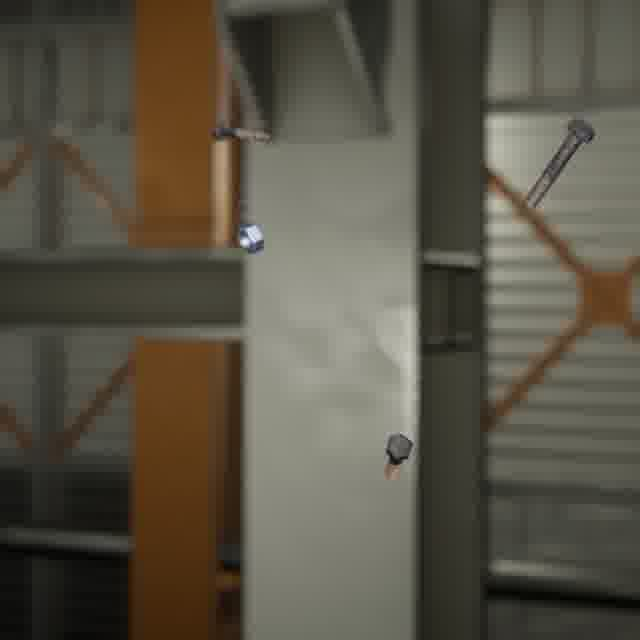bolt: (518, 114, 599, 213), (380, 429, 417, 484), (206, 117, 274, 145)
nut: (233, 218, 268, 257)
